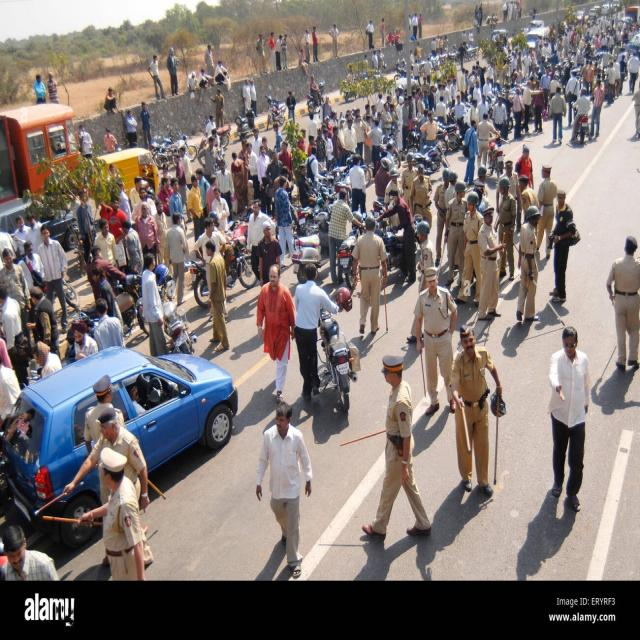car: (4, 347, 239, 524)
motorcycle: (319, 311, 360, 412), (291, 212, 329, 283)
